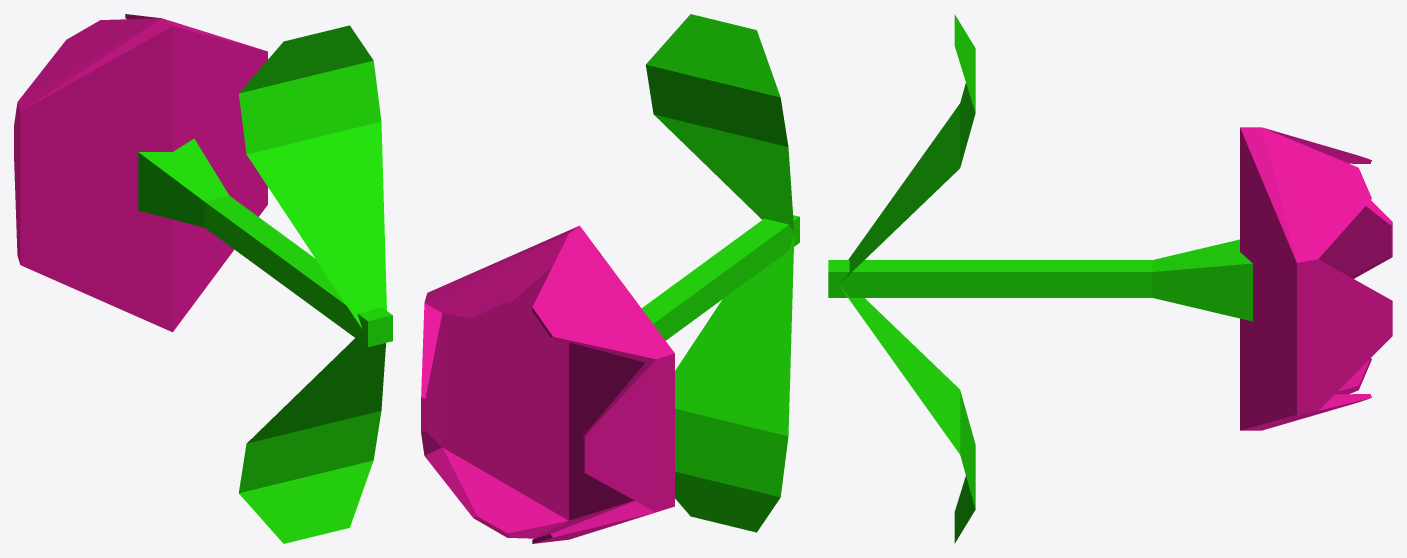
Rendered from DevilCrown.fbx.
3 views of the same model, side by side, from view 1: azimuth 30°, elevation 25°; view 2: azimuth 150°, elevation 25°; view 3: azimuth 270°, elevation 25° (orthographic).
Parts seen in each view (by area): view 1: 円柱; view 2: 円柱; view 3: 円柱.
Boxes of the visible parts, bbox=[...] form: 円柱: bbox=[14, 14, 392, 543]; 円柱: bbox=[421, 14, 799, 543]; 円柱: bbox=[828, 14, 1392, 543].
Size of the model in its own units: 3.36 by 6.52 by 6.7.
